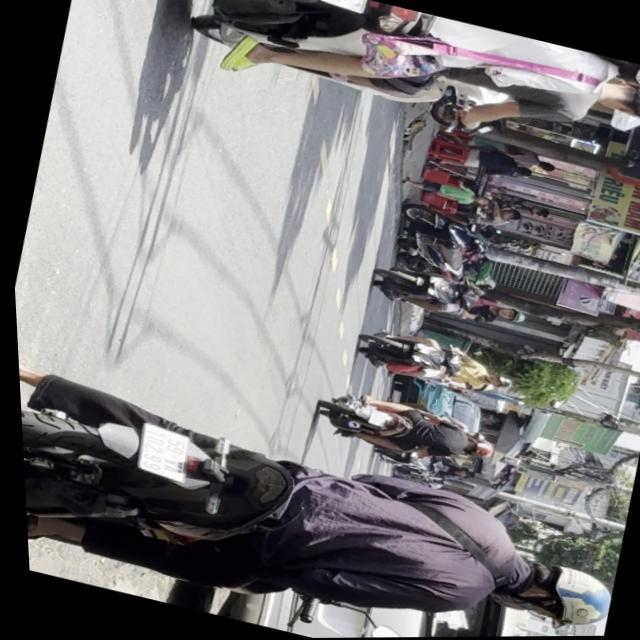helmet: (489, 550, 611, 635), (596, 56, 640, 107), (459, 440, 491, 460), (493, 305, 524, 325)
licenseplate: (15, 352, 628, 640), (146, 0, 640, 184), (301, 382, 499, 475), (360, 260, 532, 340)
motorcyclist: (592, 76, 640, 128)
nohelmet: (128, 423, 189, 480), (319, 0, 368, 13)
